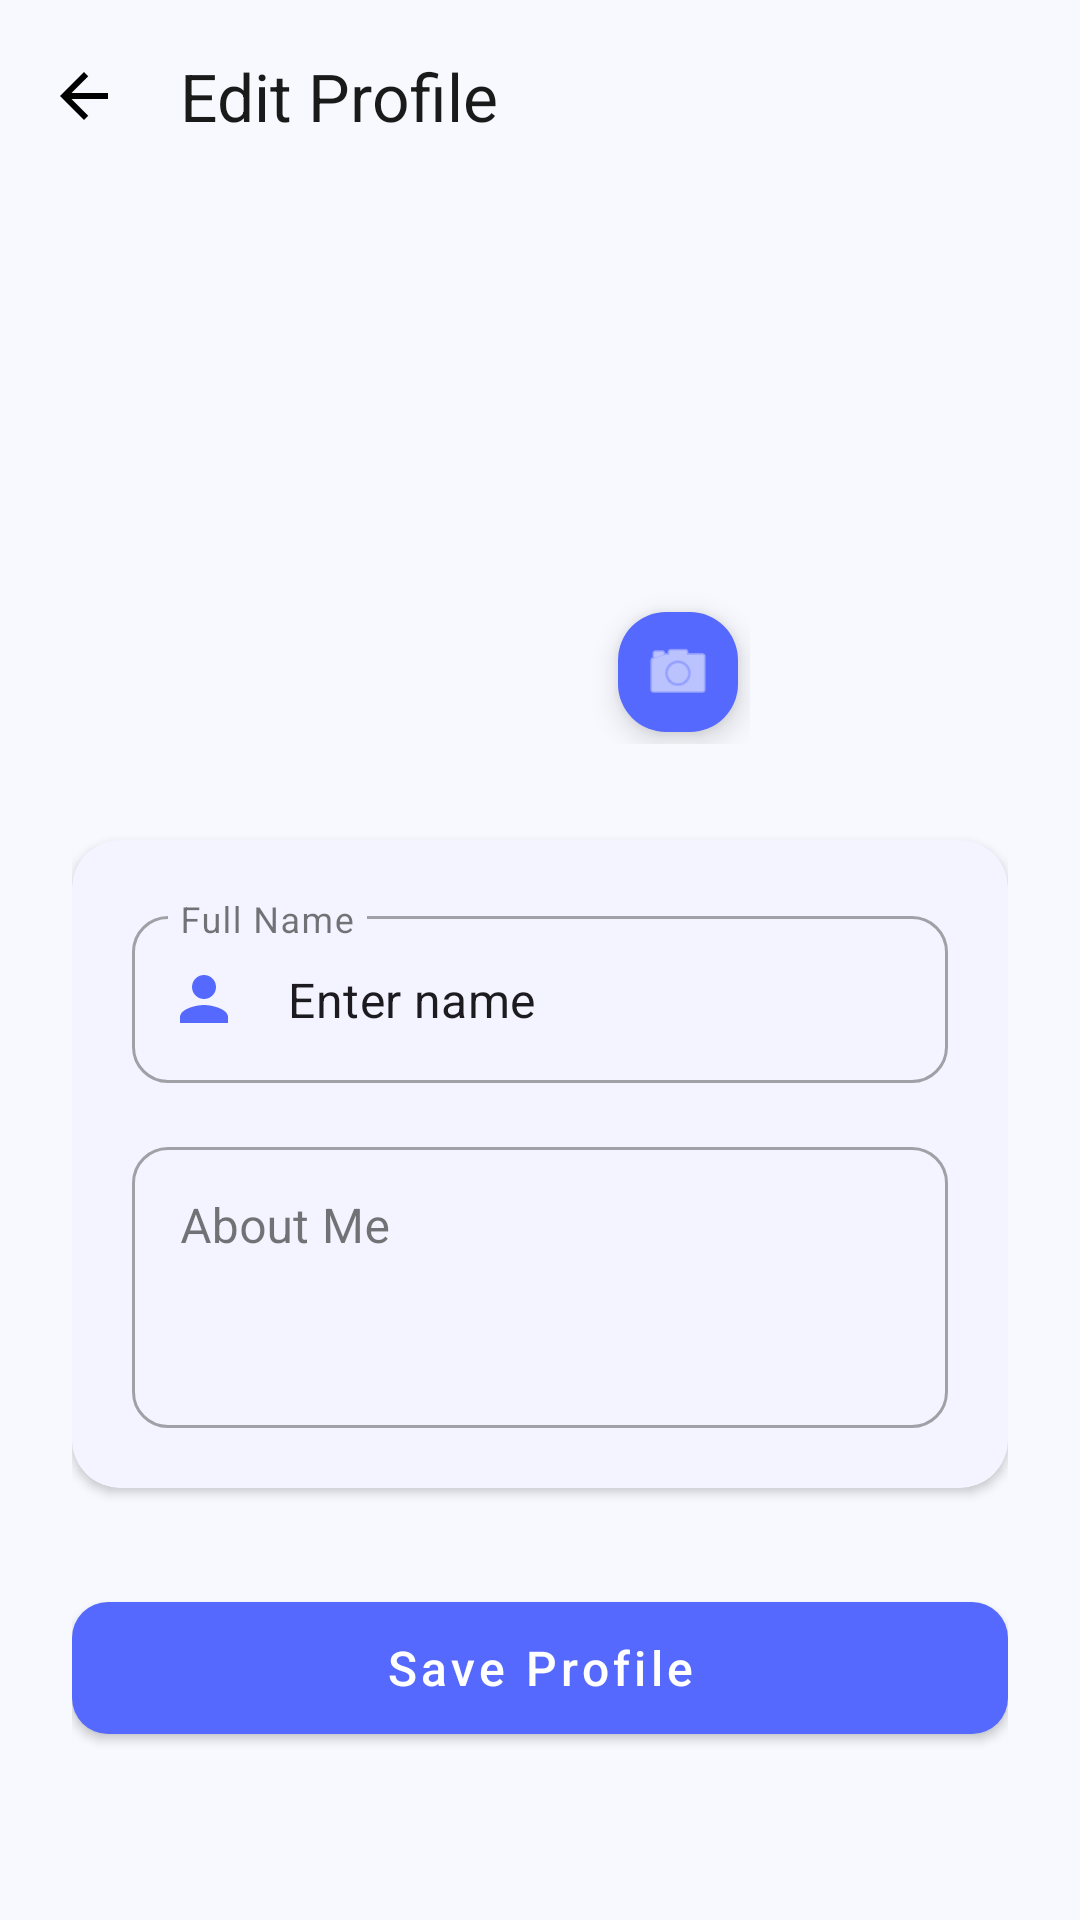

Where to tap for icons on this 1080 × 1920 app screen, as (x=x, y=y):
camera: (x=678, y=673)
